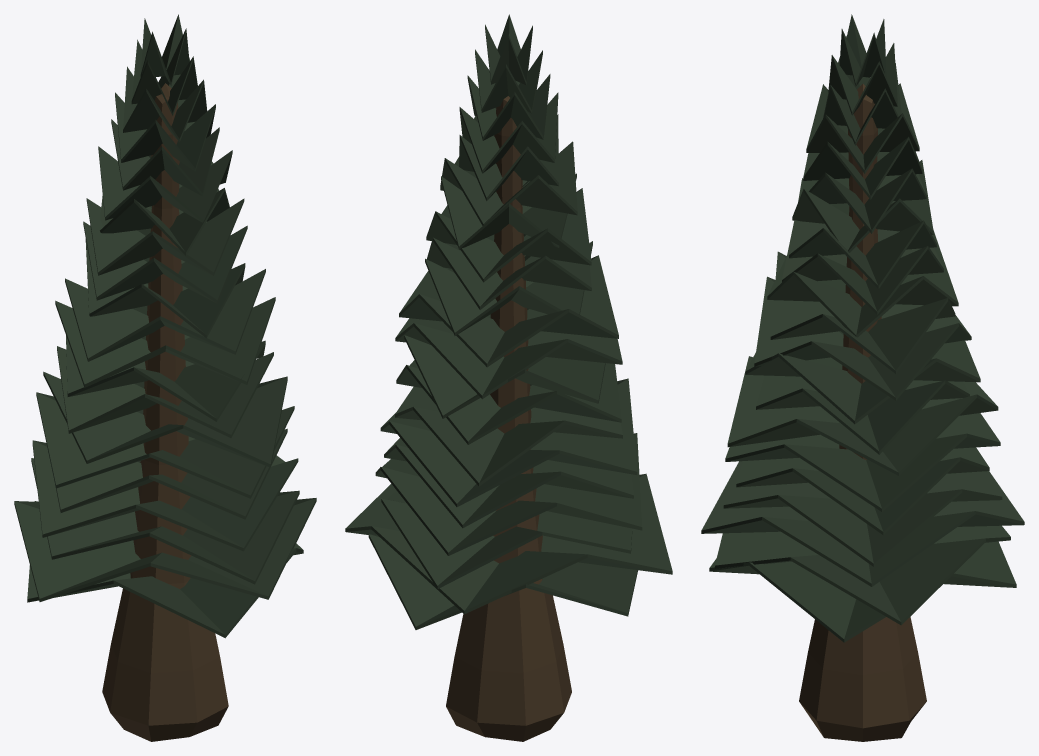
File: strom.fbx
The picture shows the model from 3 angles, left to right: view 1: azimuth 30°, elevation 25°; view 2: azimuth 150°, elevation 25°; view 3: azimuth 270°, elevation 25°; orthographic projection.
Visible parts, largest first — view 1: strom; view 2: strom; view 3: strom.
Boxes of the visible parts, x1=… form: strom: x1=14, y1=14, x2=316, y2=741; strom: x1=345, y1=14, x2=672, y2=741; strom: x1=701, y1=14, x2=1024, y2=741.
Bounding box in the file's own units: 397 × 912 × 382.
Materials: 1 (1 with a texture image).
